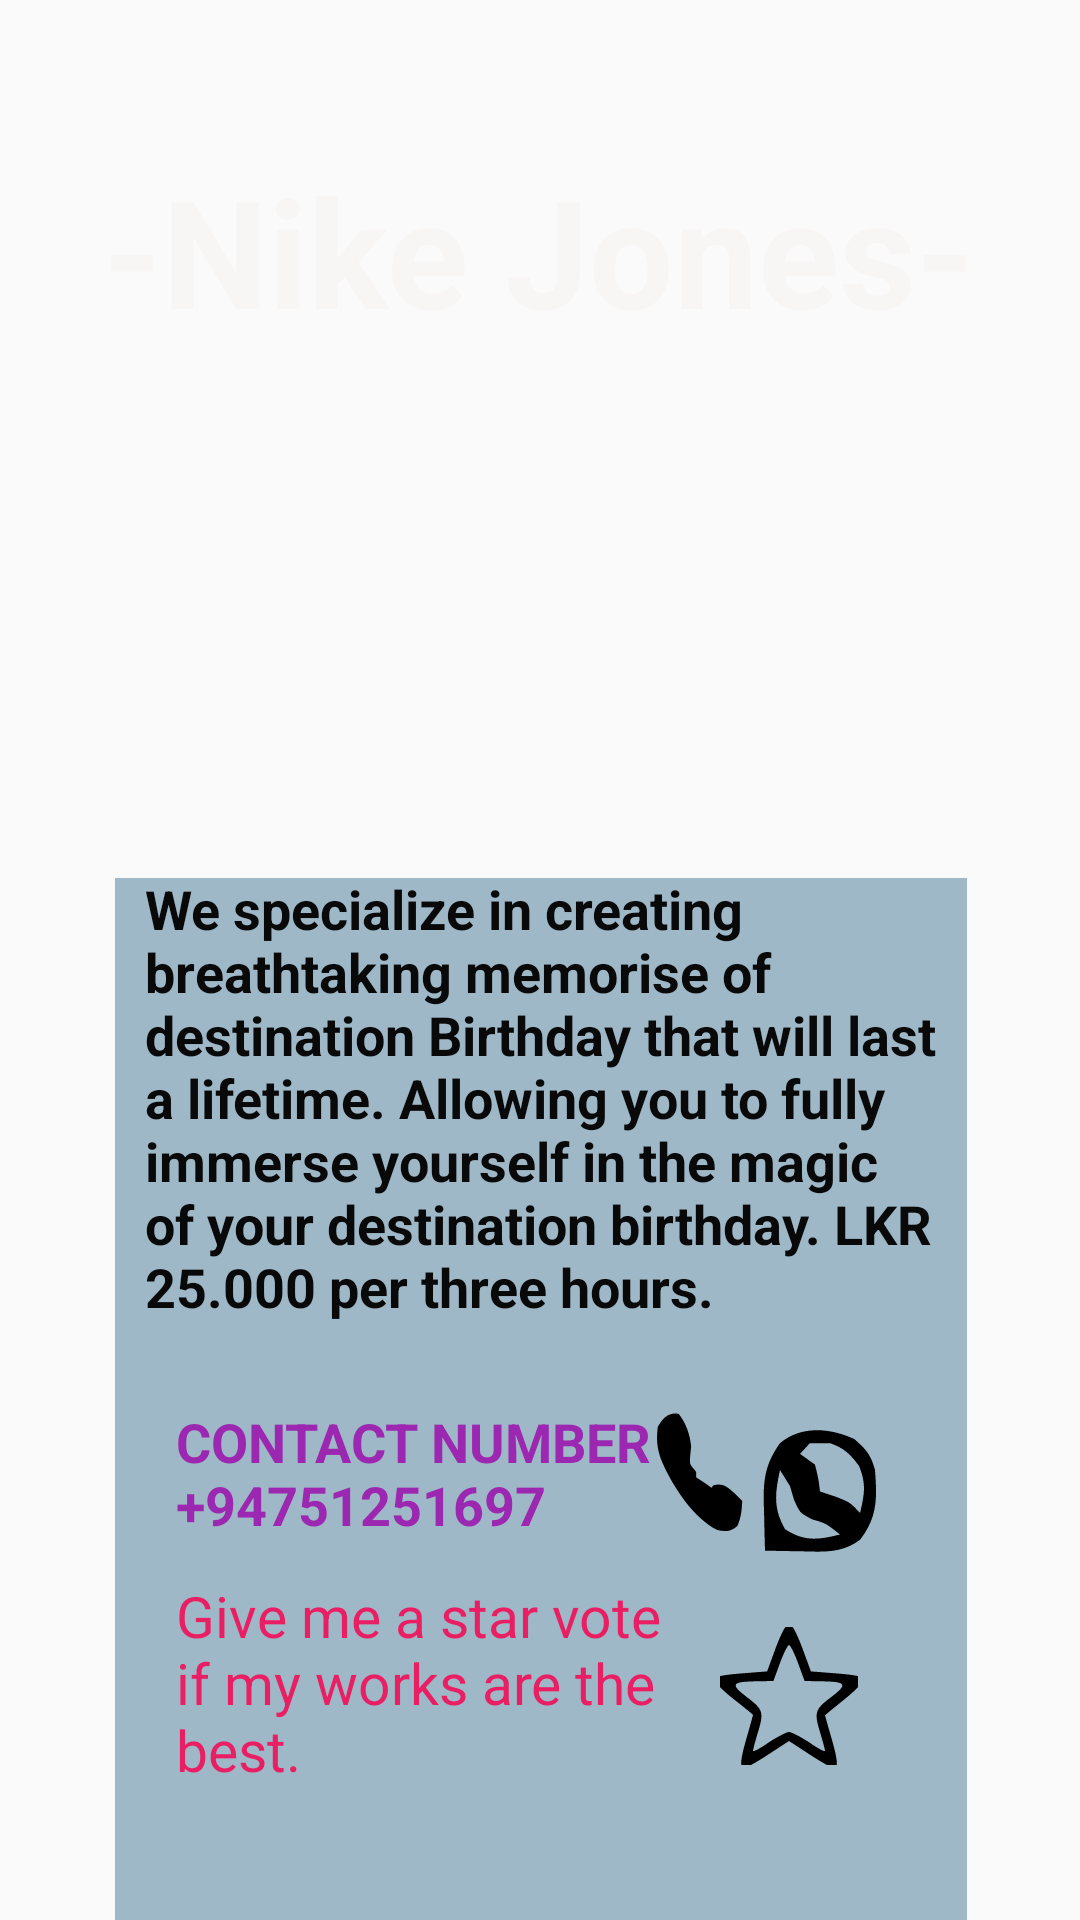

Icon click points for this 1080 x 1920 phone screenshot, format (x,y):
phone number: (700,1472)
